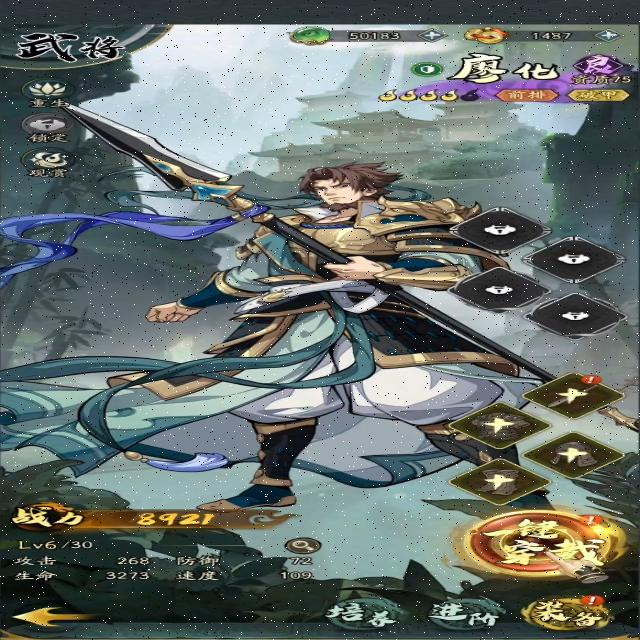hint-guide: (453, 507, 633, 586)
hint-reddot: (573, 372, 609, 389), (579, 594, 604, 608)
operation-advanced: (426, 597, 504, 628)
operation-back: (9, 604, 106, 632)
operation-equipment: (522, 593, 610, 632)
operation-oneKeyEquipment: (462, 512, 623, 574)
operation-train: (325, 599, 407, 630)
